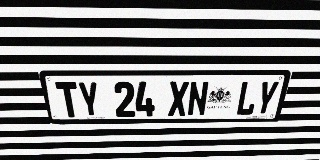2: (114, 81, 135, 117)
4: (135, 81, 155, 117)
L: (235, 81, 260, 115)
N: (187, 81, 209, 116)
T: (55, 82, 81, 118)
X: (168, 81, 189, 116)
Y: (253, 81, 280, 115), (76, 82, 101, 117)
